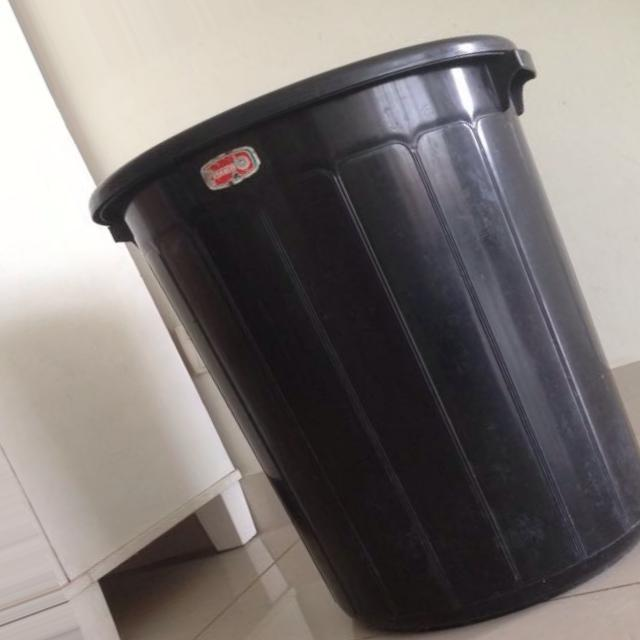Bote de Basura: (112, 23, 639, 639)
